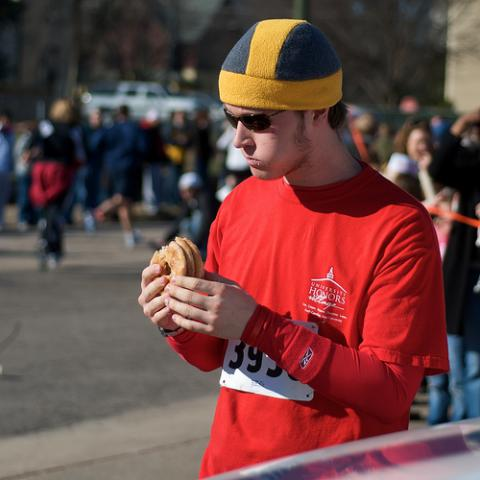truck: (82, 82, 198, 120)
